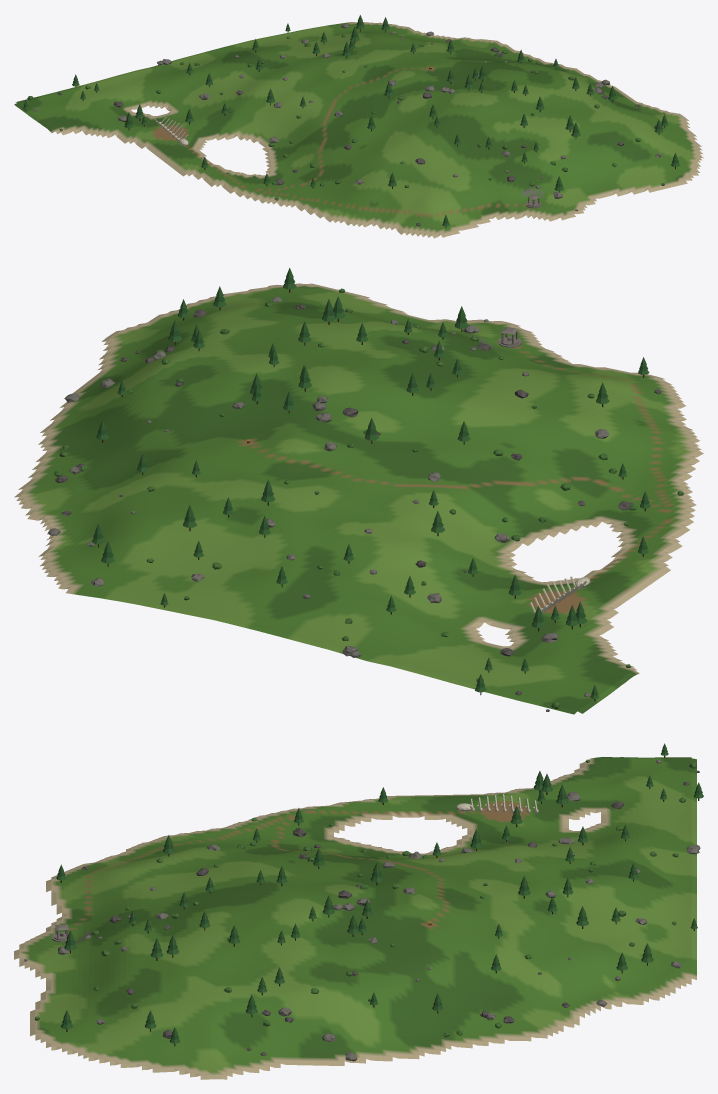
Rendered from arch_isl_coil_isle.glb.
The picture shows the model from 3 angles, top to bottom: view 1: azimuth 30°, elevation 25°; view 2: azimuth 150°, elevation 25°; view 3: azimuth 270°, elevation 25°; orthographic projection. The views are drawn at different scales.
Visible parts, largest first — view 1: geometry_0; view 2: geometry_0; view 3: geometry_0.
Part boxes in pixels (bbox=[...]): geometry_0: bbox=[14, 15, 703, 238]; geometry_0: bbox=[14, 268, 703, 714]; geometry_0: bbox=[14, 743, 703, 1079].
Size of the model in its own units: 284 by 30.19 by 259.
